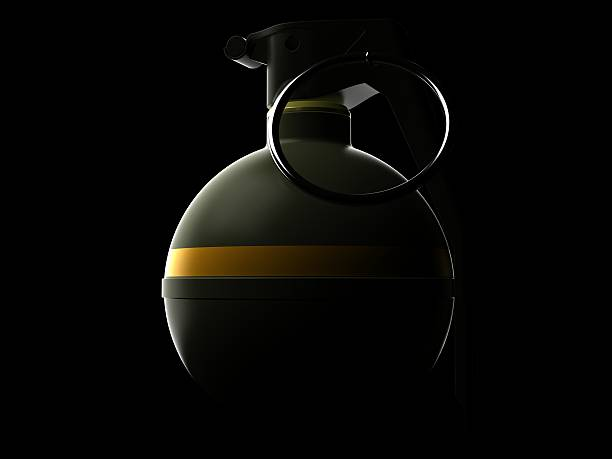e1: (162, 32, 459, 396)
